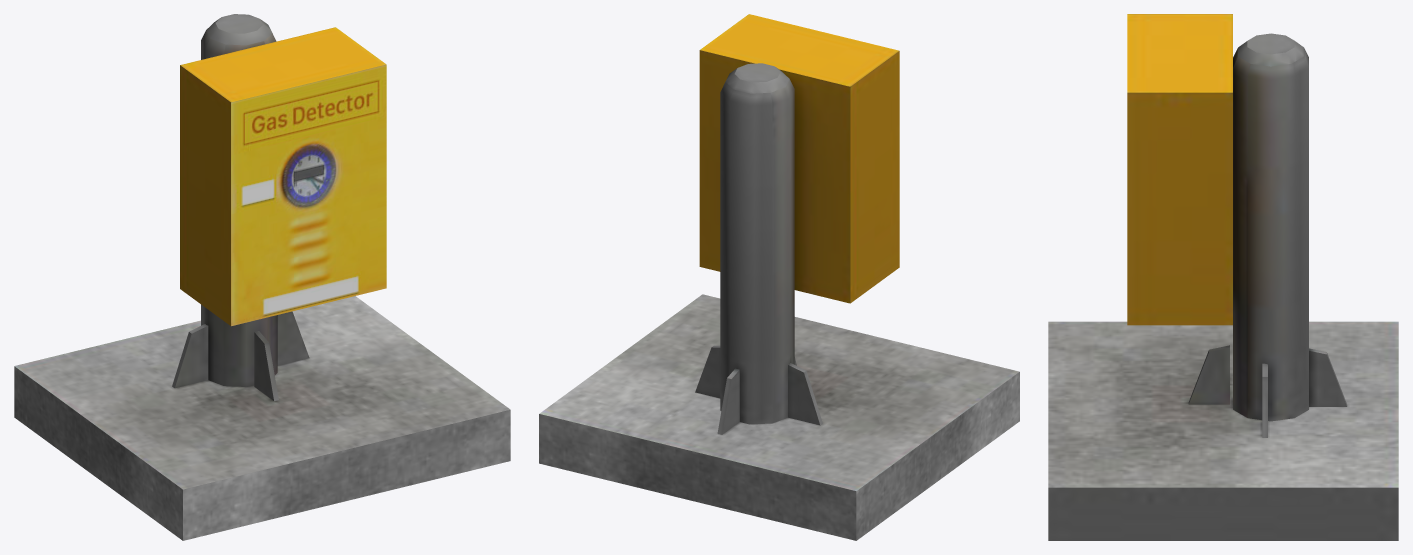
Rendered from GasDetector.gltf.
3 views of the same model, side by side, from view 1: azimuth 30°, elevation 25°; view 2: azimuth 150°, elevation 25°; view 3: azimuth 270°, elevation 25° (orthographic). The views are drawn at different scales.
Parts seen in each view (by area): view 1: Detector; view 2: Detector; view 3: Detector.
Part boxes in pixels (x1=…): Detector: x1=14, y1=14, x2=510, y2=540; Detector: x1=539, y1=14, x2=1019, y2=540; Detector: x1=1048, y1=14, x2=1398, y2=540.
Size of the model in its own units: 4.11 by 4.78 by 3.67.
1 material, 1 textured.
